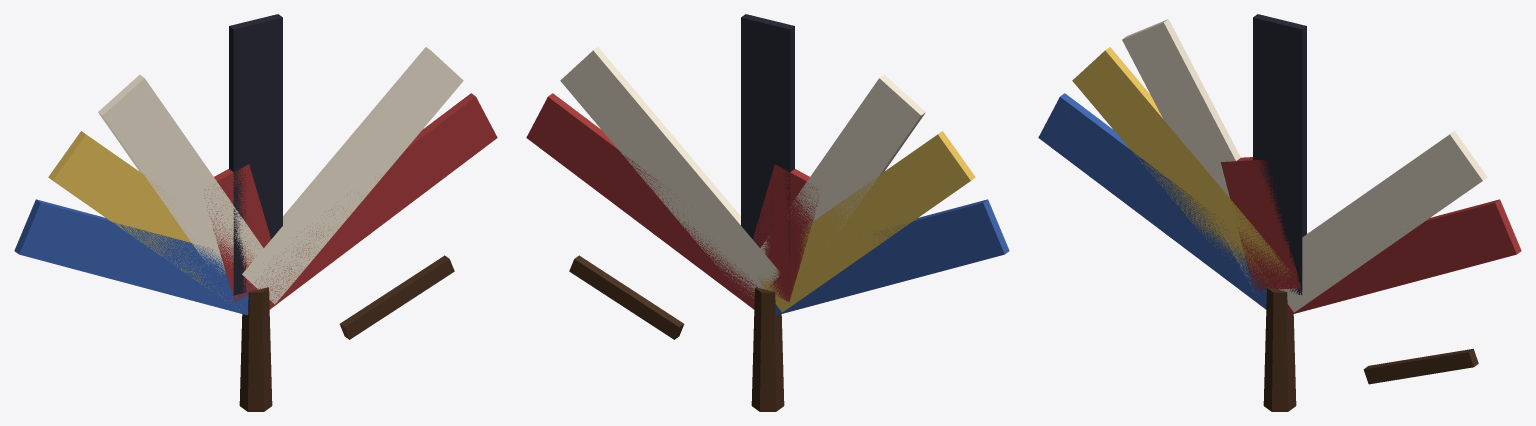
File: prop_salpuchae_broken.glb
3 views of the same model, side by side, from view 1: azimuth 30°, elevation 25°; view 2: azimuth 150°, elevation 25°; view 3: azimuth 330°, elevation 25° (orthographic).
Visible parts, largest first — view 1: prop_salpuchae_broken; view 2: prop_salpuchae_broken; view 3: prop_salpuchae_broken.
Boxes of the visible parts, x1=… form: prop_salpuchae_broken: x1=14, y1=14, x2=497, y2=411; prop_salpuchae_broken: x1=526, y1=14, x2=1009, y2=411; prop_salpuchae_broken: x1=1038, y1=14, x2=1521, y2=411.
Bounding box in the file's own units: 0.6778 × 0.52 × 0.04.
